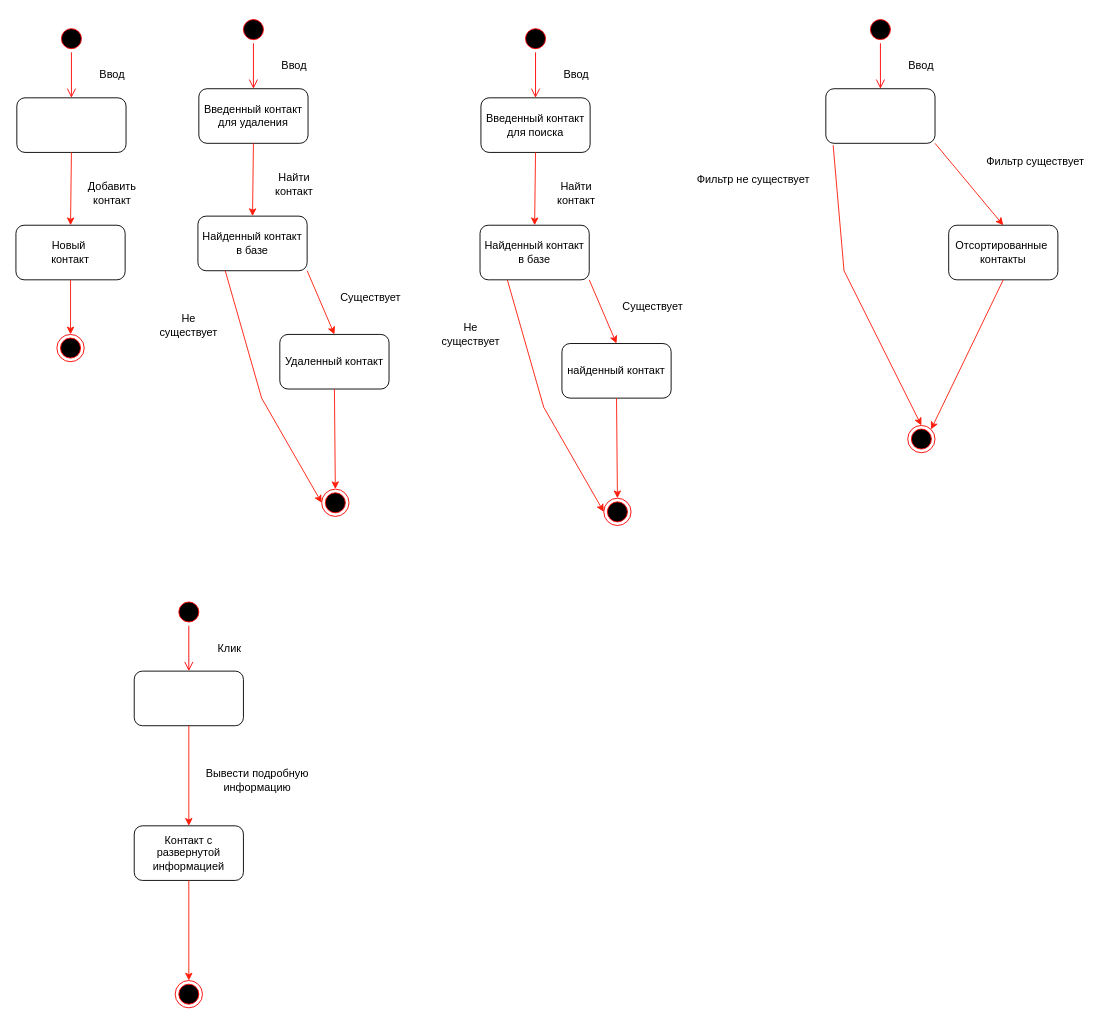
Some shapes in this 1106 by 1024 pixel diagram are drawn without their labels. Here are the shapes that lost their labels. From the top down, the centre of each, then its label:
At point 71,124: "Введенный контакт".
At point 880,115: "Введенный фильтр".
At point 188,698: "Выделенный контакт".
